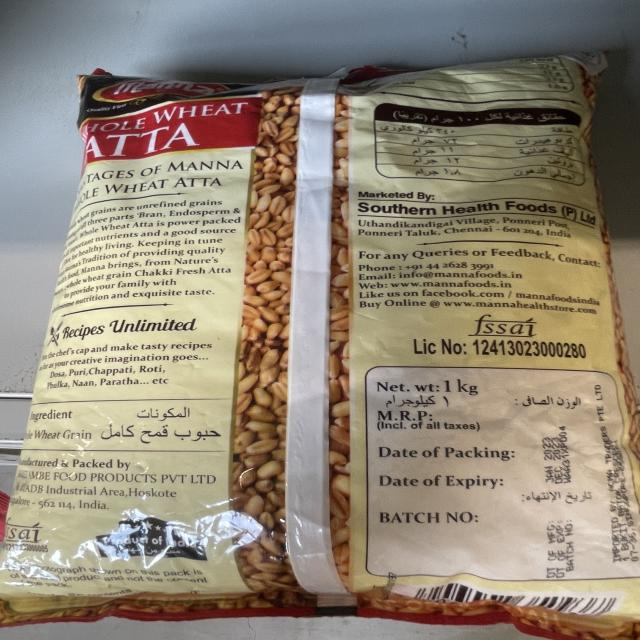object_name: (79, 71, 624, 630)
